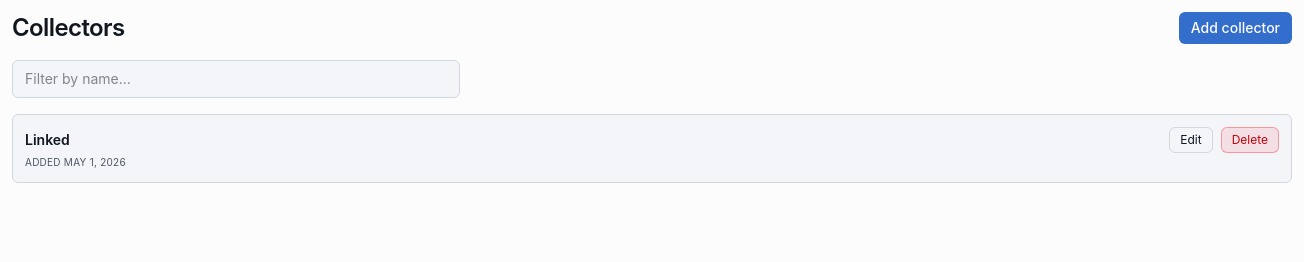
Scenario: Collectors route › shows the in-use error and a filtered-specimens link on delete 409
The width and height of the screenshot is (1304, 262).
Expected: the link "Linked" is shown, [25,131,70,148]
Click the button with test id "delete-button".
click(1250, 140)  # box [1221,127,1279,153]
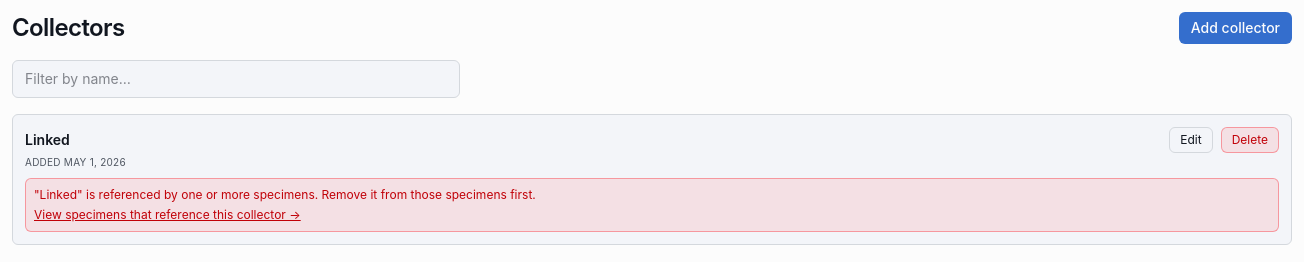
Expected: the link "Linked" is shown, [25,131,70,148]
Now the message with test id "delete-error" is shown, box [25,178,1279,232]
Now the message with test id "delete-error" shows "referenced by one or more specimens", box [34,187,536,202]
